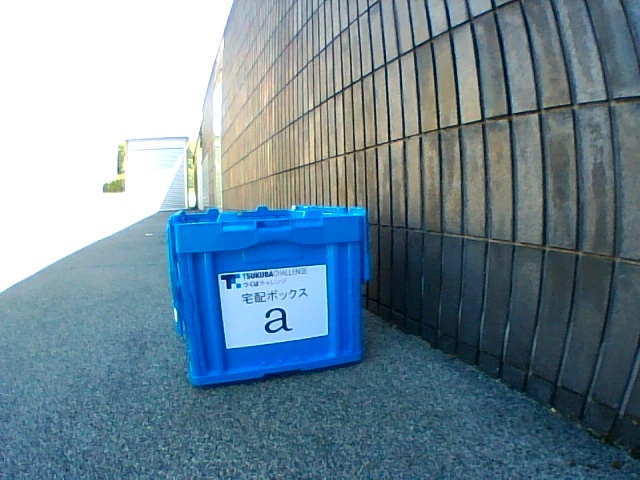blue_box: (167, 206, 369, 386)
tag_a: (232, 275, 318, 335)
